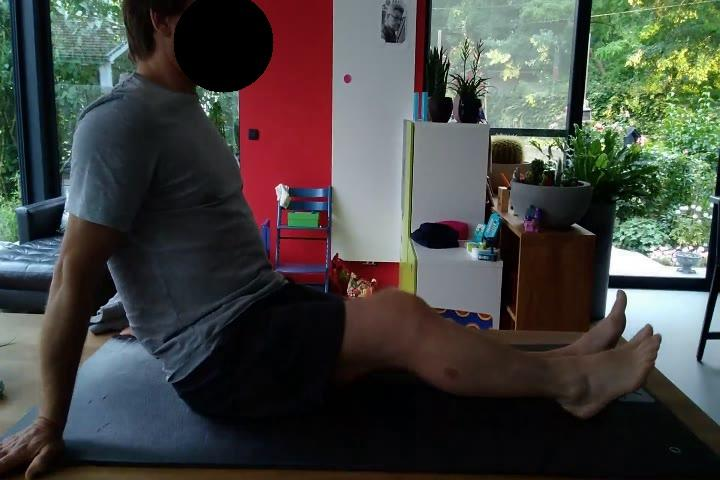lower_body: (175, 289, 663, 423)
